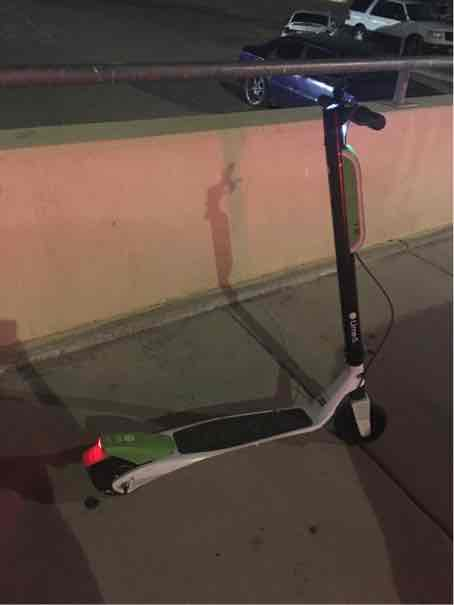scooter: (83, 89, 393, 499)
